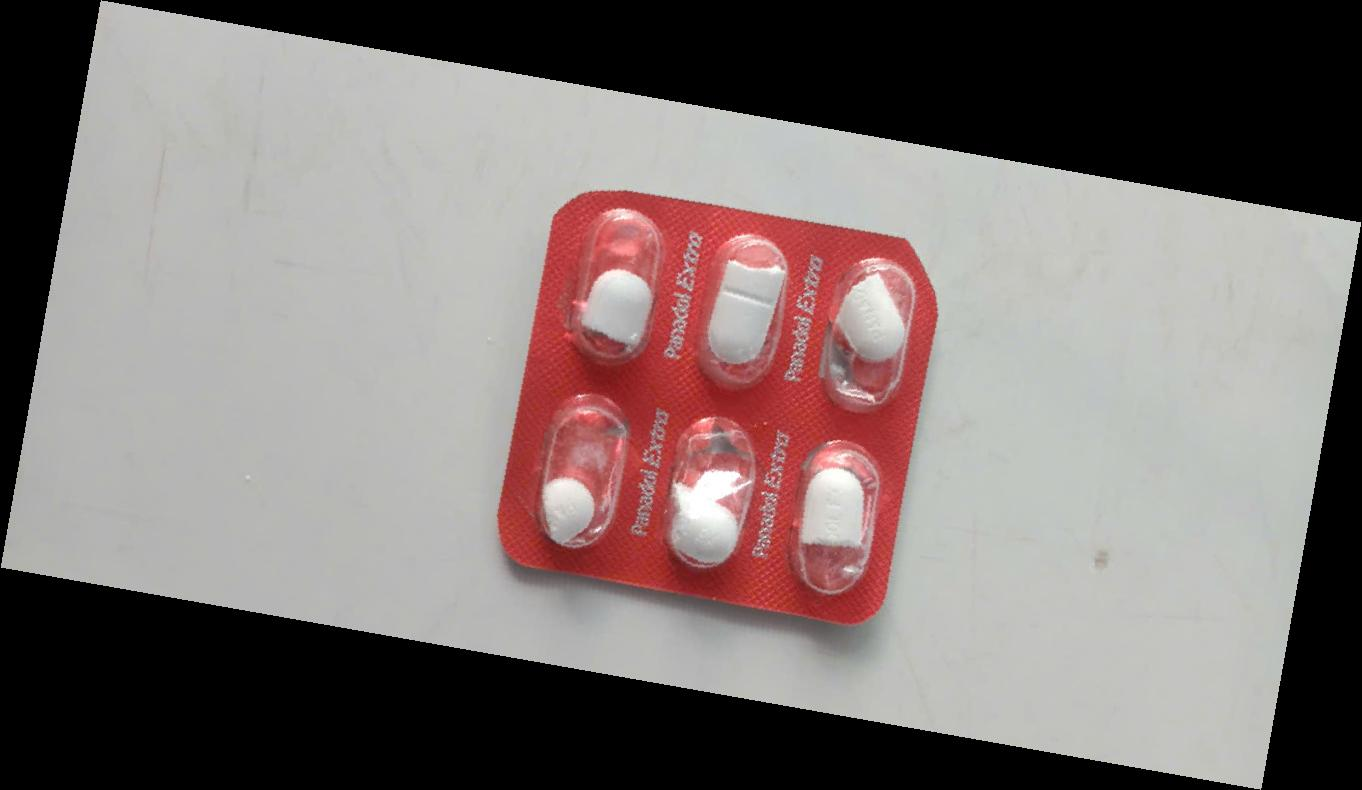Partial: (551, 195, 678, 367), (687, 216, 814, 388), (807, 246, 934, 418), (774, 431, 901, 603), (655, 407, 782, 579), (511, 387, 638, 559)
